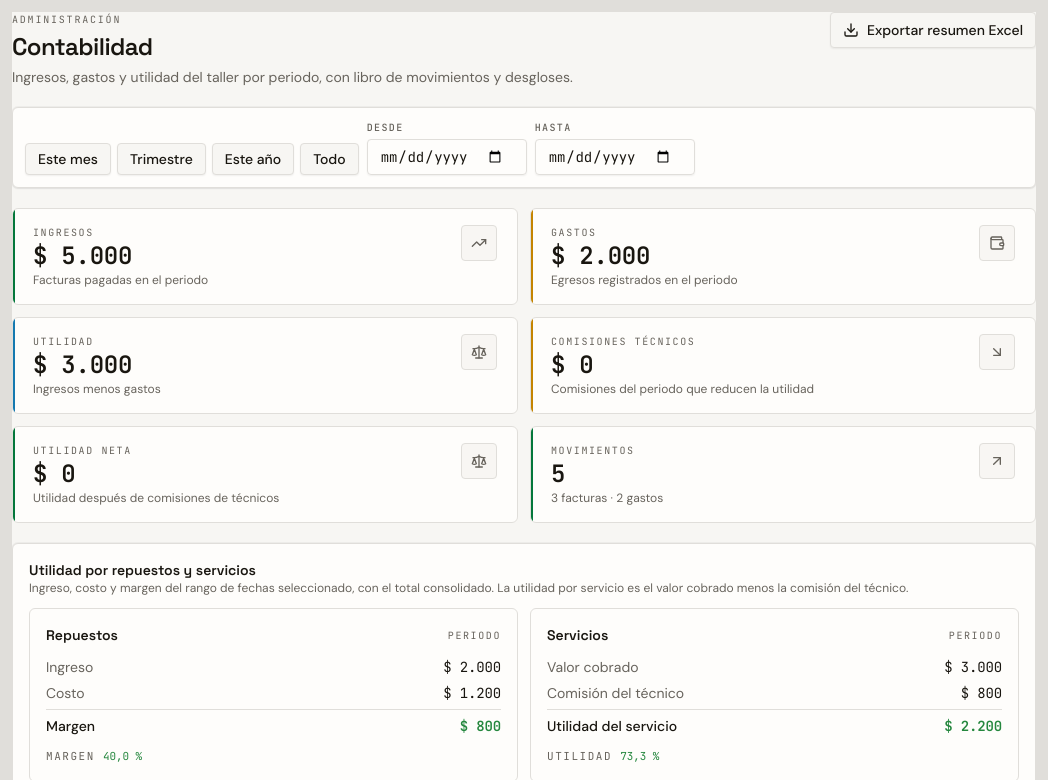
AccountingPage › clears the active period filters
Expected: the element with test id "accounting.kpi.income" is shown, [12,208,518,305]
Click the button with test id "accounting.period.year" at (253,159), box [212,143,294,175]
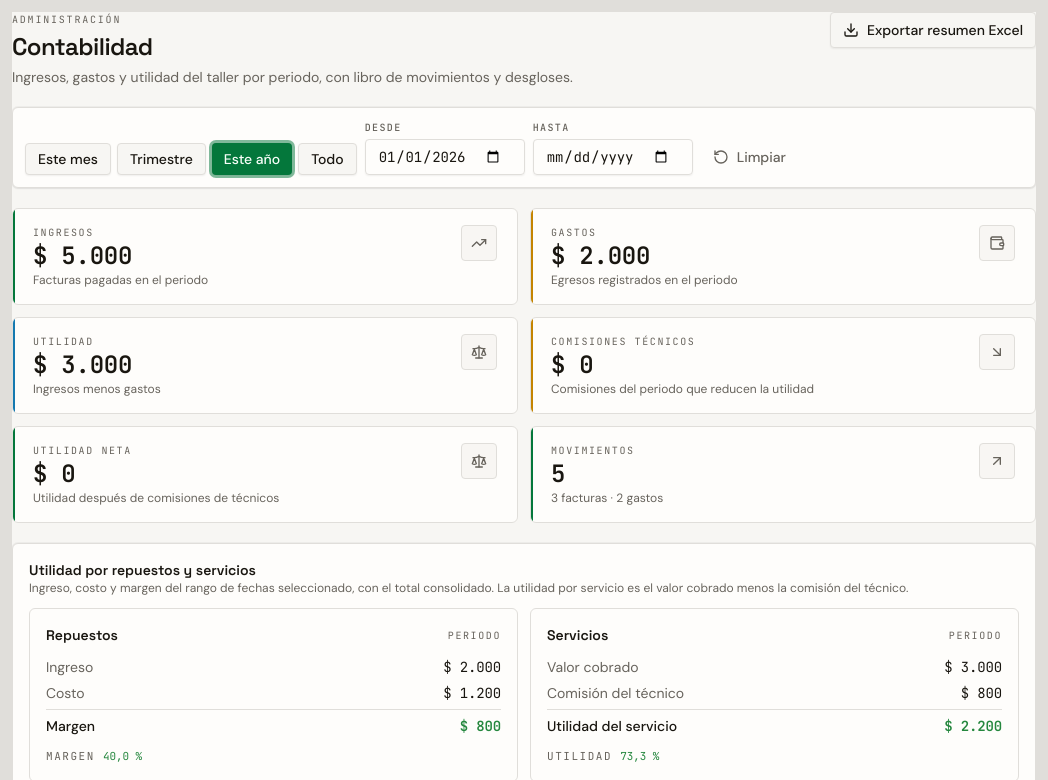
Click the button with test id "accounting.clear_filters_button" at (749,157), box [701,139,798,175]
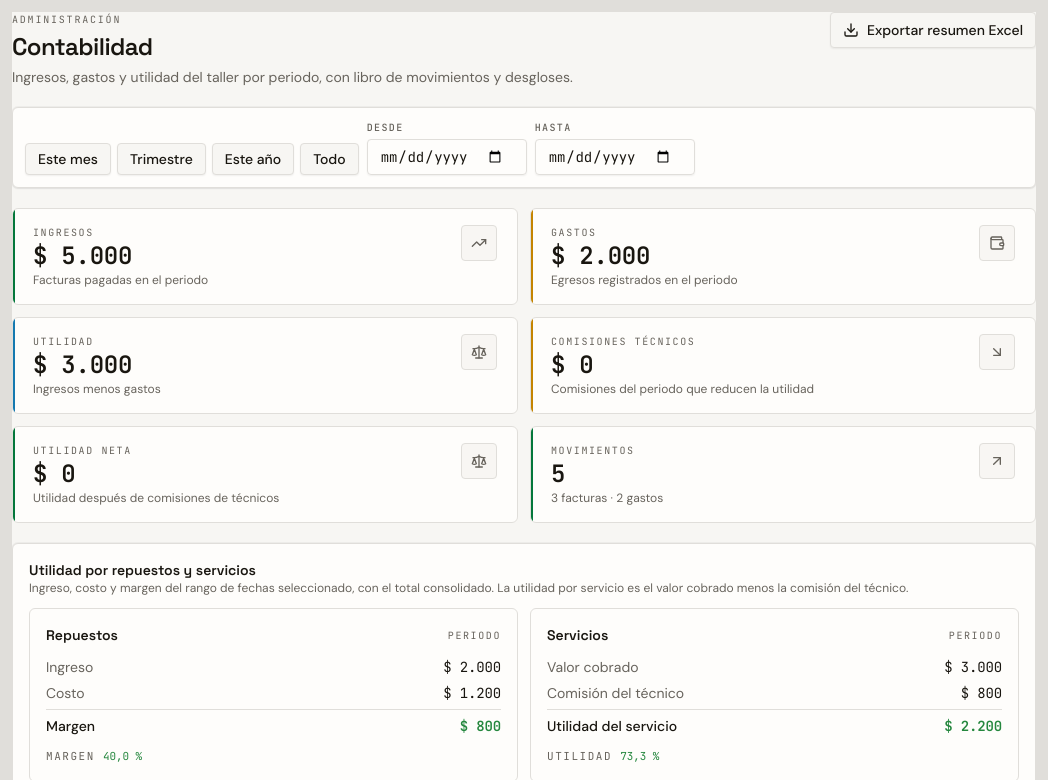
Now the date field with test id "accounting.date_from_input" is empty, box [367,139,527,175]
